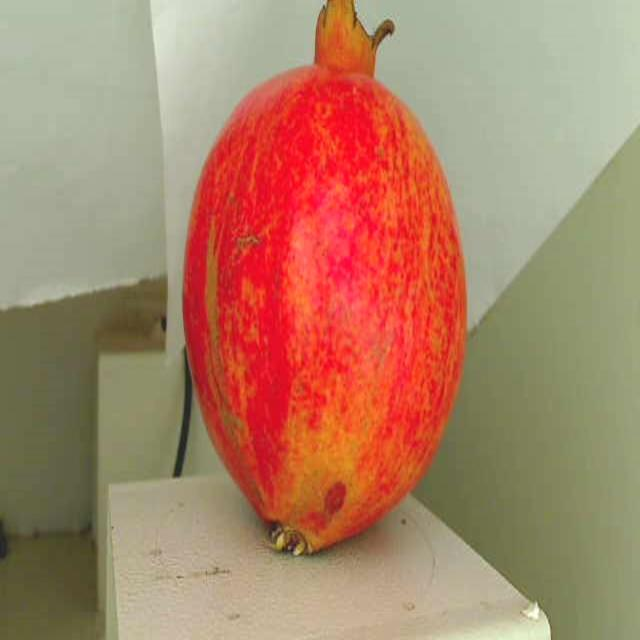pomegranate: (174, 0, 477, 569)
